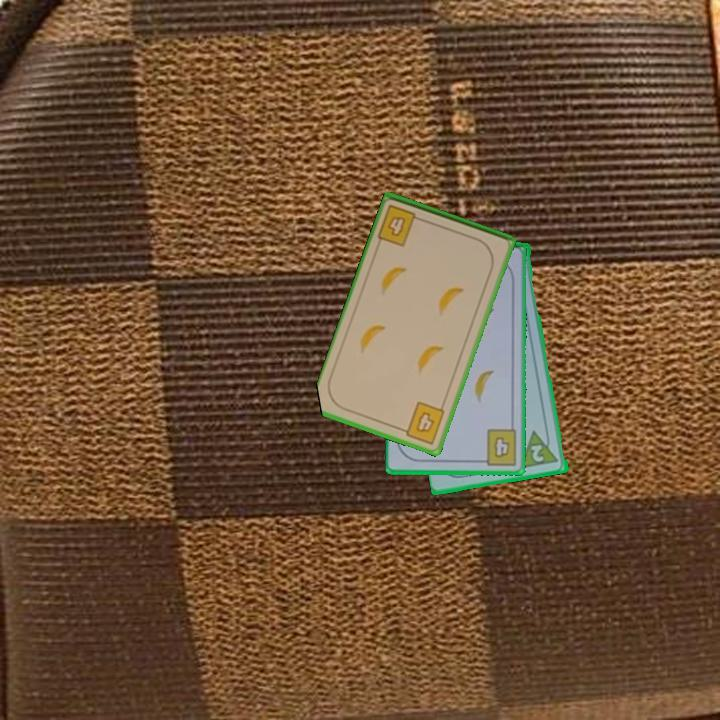2p: (528, 441, 547, 465)
4b: (374, 201, 427, 249), (397, 398, 448, 447), (476, 426, 520, 468)
